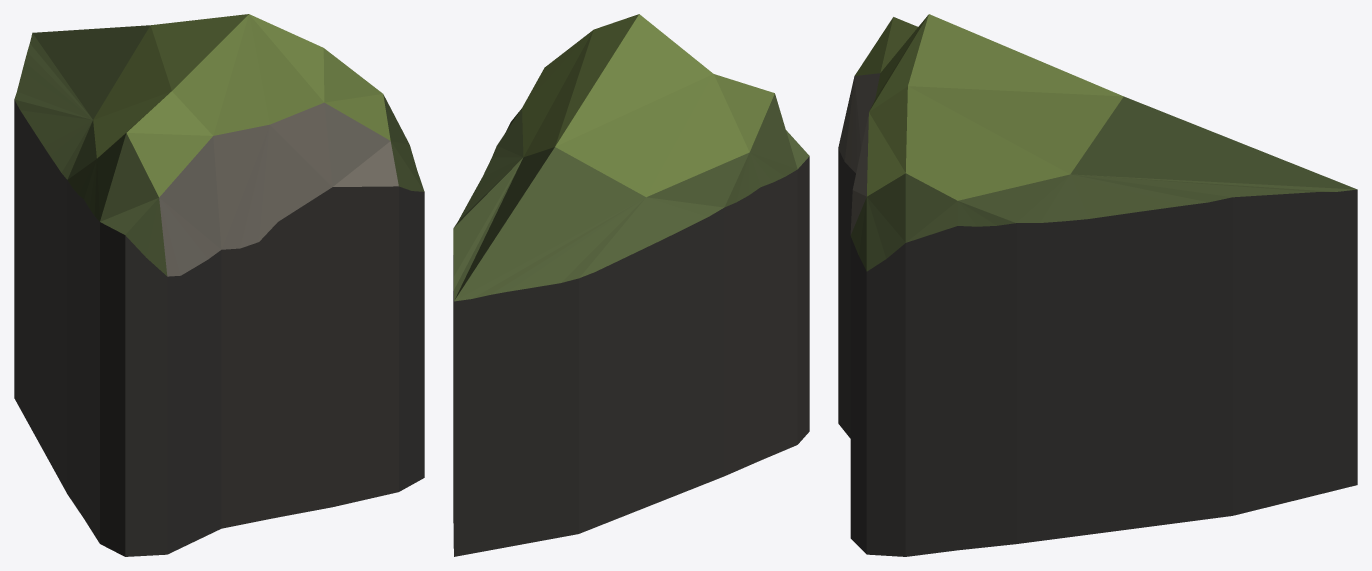
File: cliff_sections_10d_western_slab.glb
3 views of the same model, side by side, from view 1: azimuth 30°, elevation 25°; view 2: azimuth 150°, elevation 25°; view 3: azimuth 270°, elevation 25° (orthographic). The views are drawn at different scales.
Visible parts, largest first — view 1: Front columns study; view 2: Front columns study; view 3: Front columns study.
Boxes of the visible parts, <box> form: Front columns study: <box>14,14,424,556</box>; Front columns study: <box>453,14,809,556</box>; Front columns study: <box>838,14,1357,556</box>.
Size of the model in its own units: 55.6 by 80 by 79.97.
